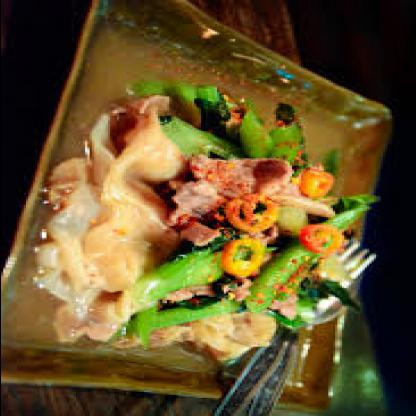Laadna: (50, 69, 364, 392)
